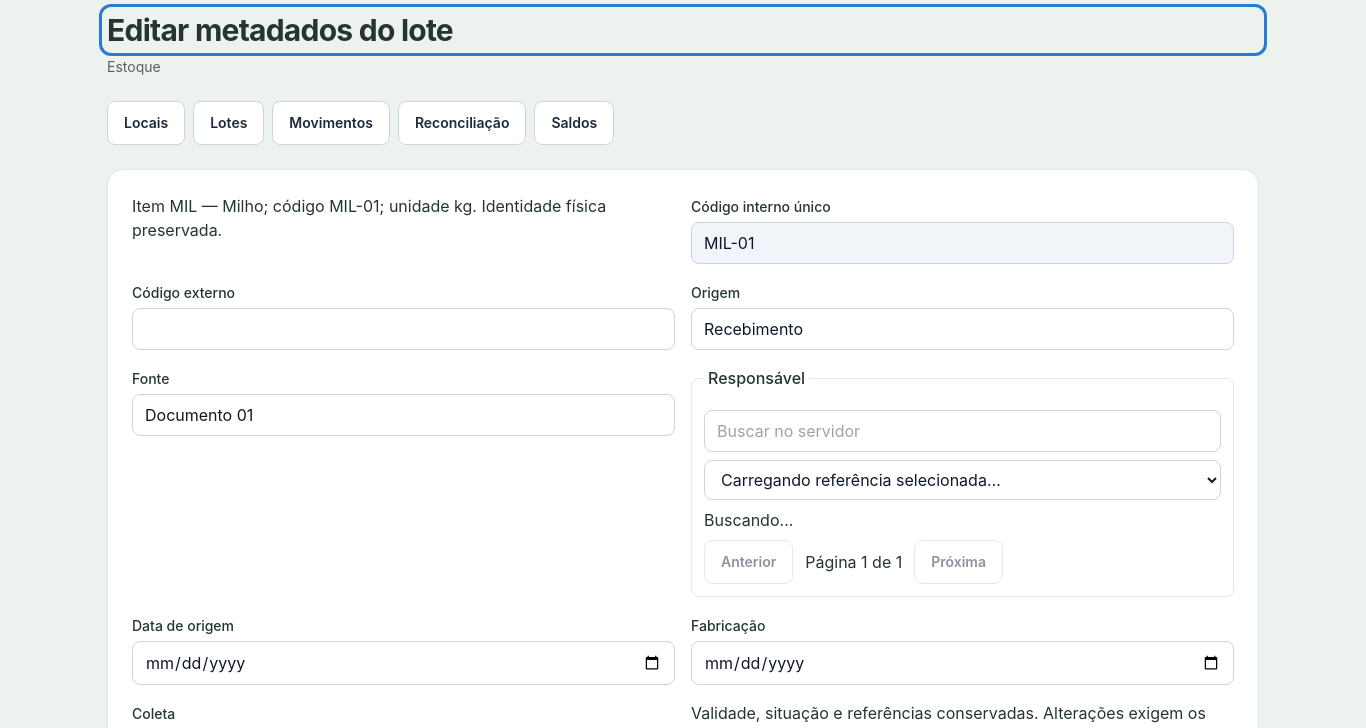
Test: Cadastros e consultas de estoque › edita somente metadados do lote, mantendo identidade e referências e exigindo revisão
expect the field labelled "Código interno único" is disabled: met, box [691,222,1234,264]
Type "DOC-EXT" into the field labelled "Código externo" at (404, 329), box [132,308,675,350]
(page scrolled)
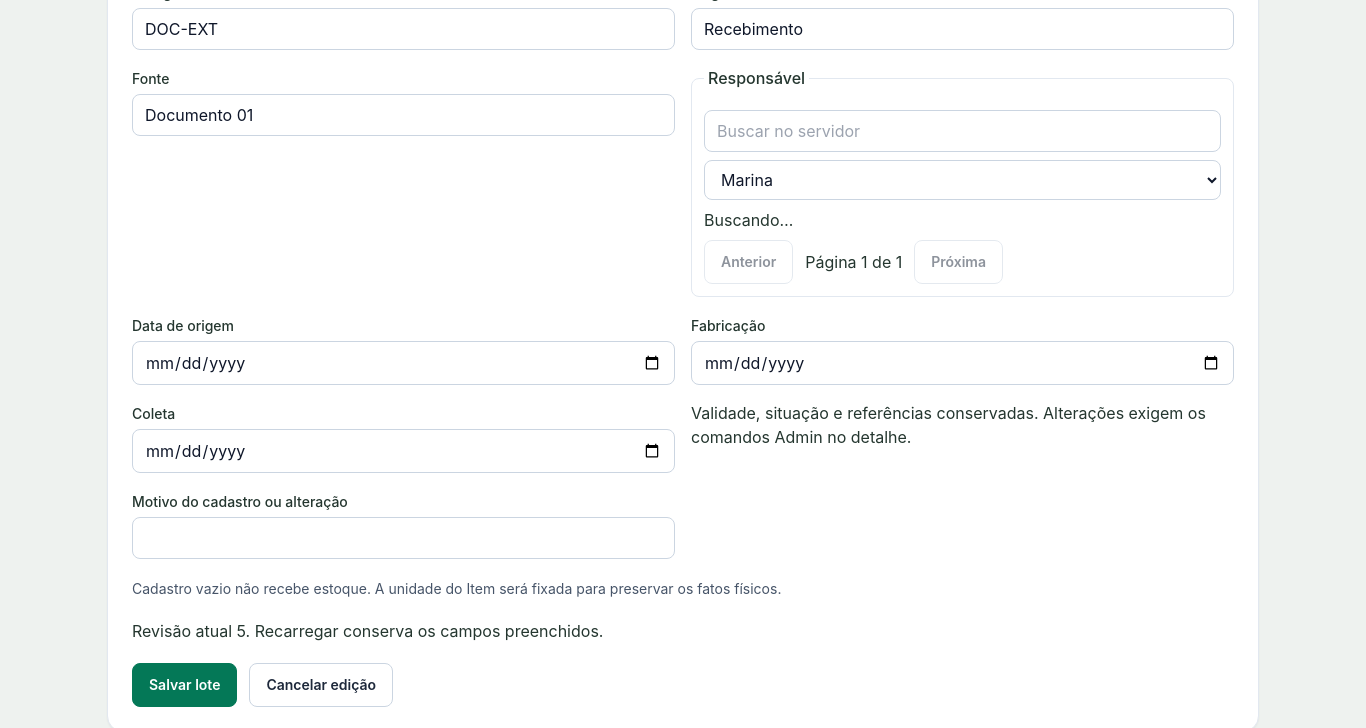
Type "Documento atualizado" into the field labelled "Motivo do cadastro ou alteração" at (404, 538), box [132,517,675,559]
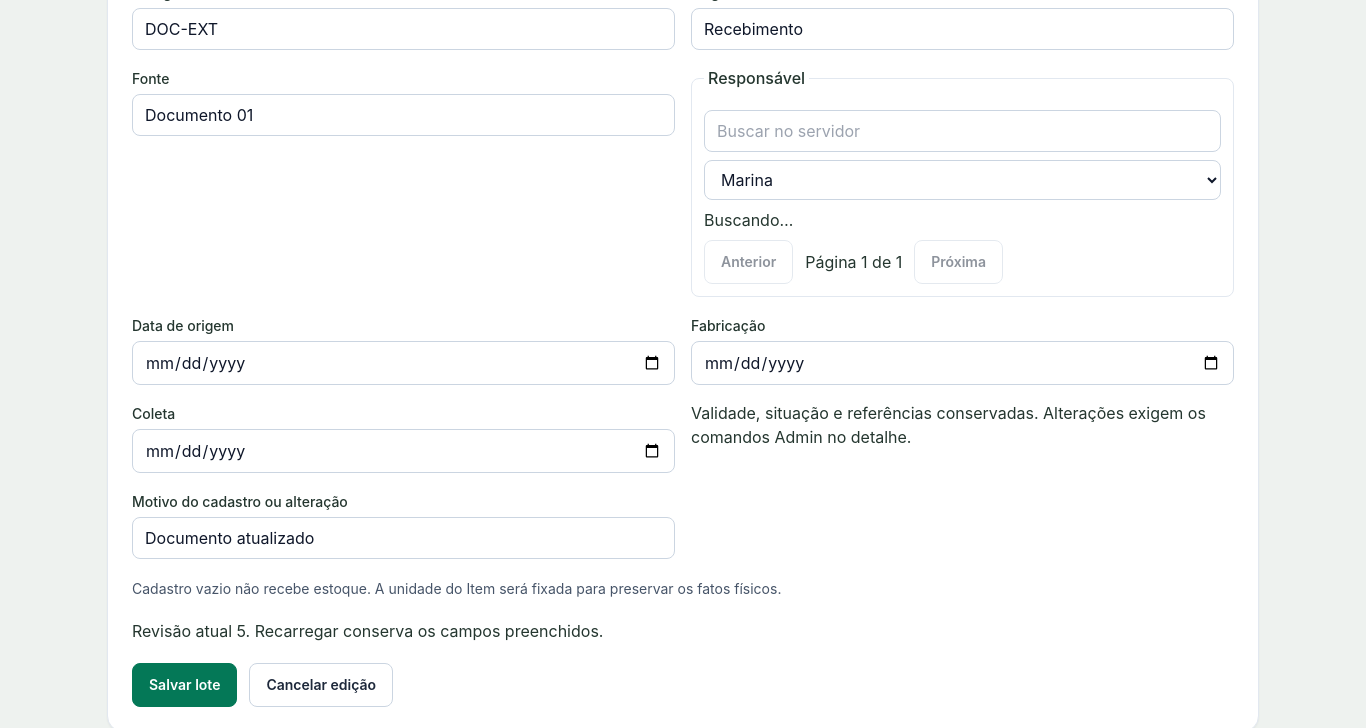
expect the button "Salvar lote" is enabled: met
Click the button "Salvar lote" at (185, 685), box [132,663,237,707]
(page scrolled)
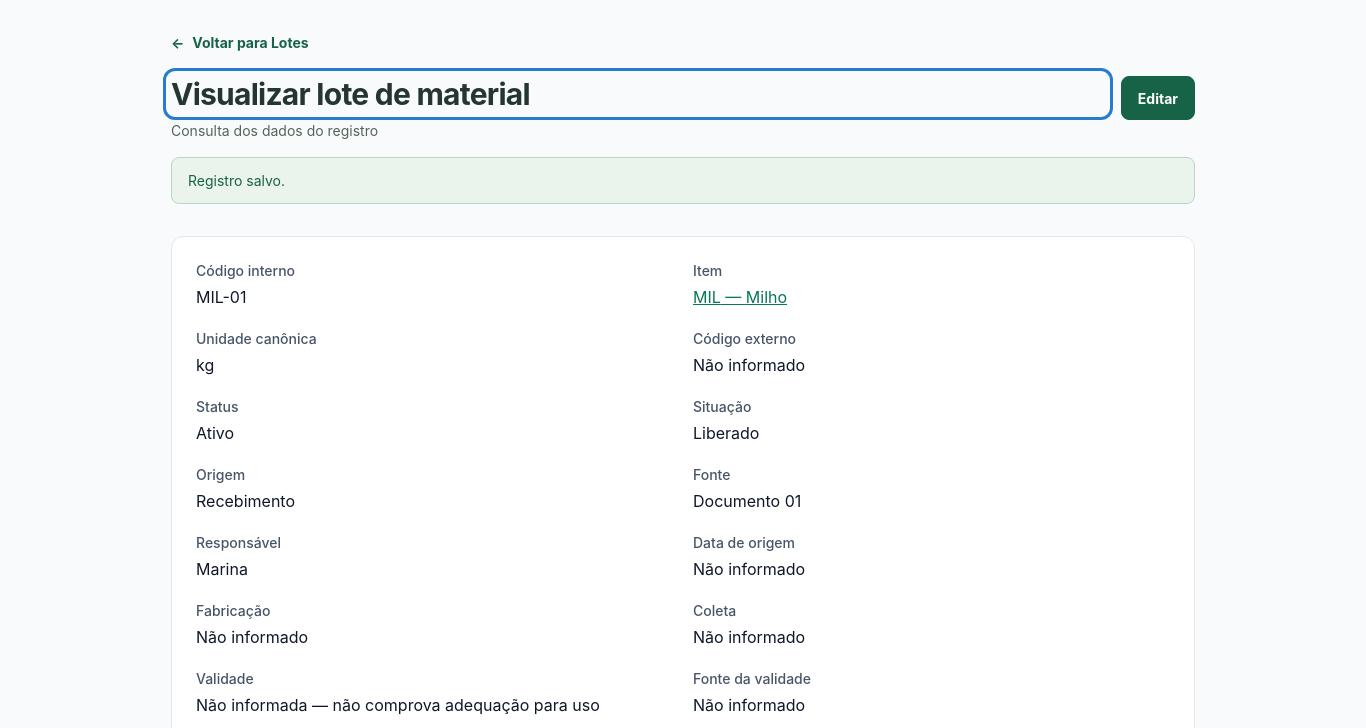
expect the heading "Visualizar lote de material" is shown: met, box [171,76,530,112]
